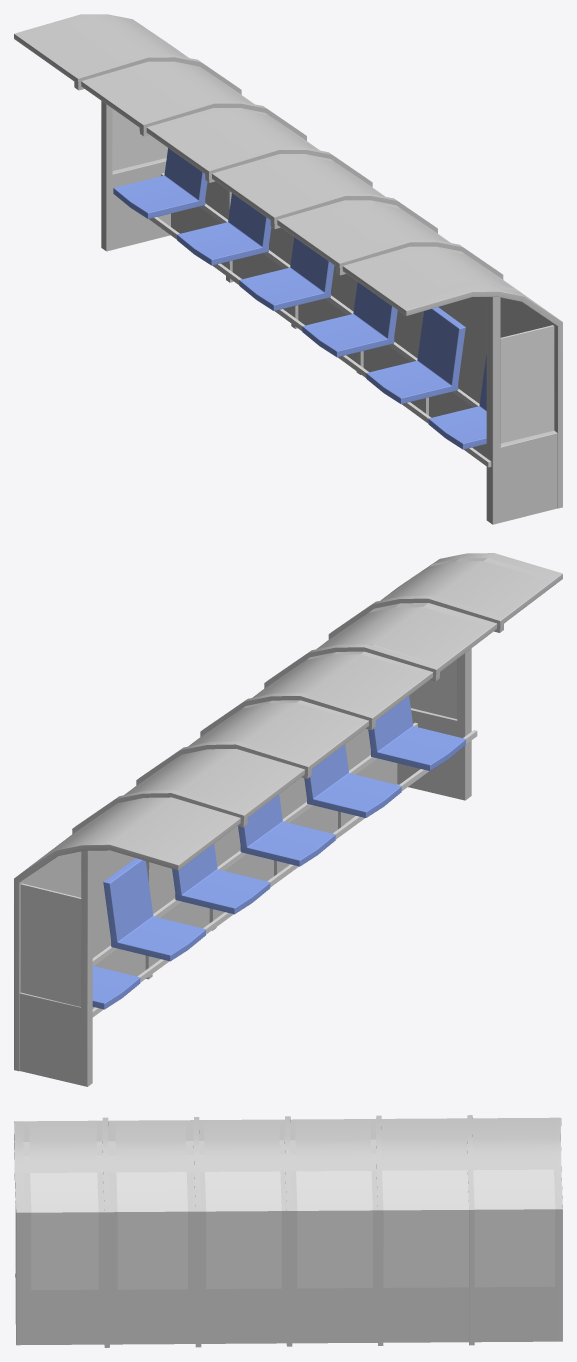
Rendered from Football_Bench.fbx.
3 views of the same model, one above another, from view 1: azimuth 30°, elevation 25°; view 2: azimuth 150°, elevation 25°; view 3: azimuth 270°, elevation 25° (orthographic). The views are drawn at different scales.
Visible parts, largest first — view 1: pPlane18, pPlane60, pCube100, pCube99, pCube98, pCube97, pCube88, pPlane59, pCube101, pCube118, pCube94; view 2: pPlane18, pPlane59, pCube97, pCube101, pCube100, pCube99, pCube98, pPlane60, pCube88, pCube118, pCube94; view 3: pPlane18.
Boxes of the visible parts, x1,y1,x2,y2 form: pPlane18: (14, 14, 562, 524); pPlane60: (500, 325, 554, 443); pCube100: (366, 307, 465, 403); pCube99: (302, 282, 397, 357); pCube98: (239, 237, 334, 310); pCube97: (177, 193, 271, 265); pCube88: (113, 148, 207, 218); pPlane59: (112, 109, 167, 170); pCube101: (428, 354, 486, 449); pCube118: (149, 217, 491, 467); pCube94: (161, 173, 479, 407); pPlane18: (14, 553, 562, 1086); pPlane59: (20, 883, 81, 1006); pCube97: (103, 858, 205, 961); pCube101: (368, 696, 465, 770); pCube100: (304, 744, 401, 817); pCube99: (238, 794, 335, 866); pCube98: (172, 844, 270, 914); pPlane60: (409, 659, 457, 718); pCube88: (92, 966, 140, 1009); pCube118: (92, 730, 477, 1017); pCube94: (92, 722, 417, 965); pPlane18: (14, 1115, 562, 1347).
Size of the model in its own units: 52.38 by 71.8 by 203.
